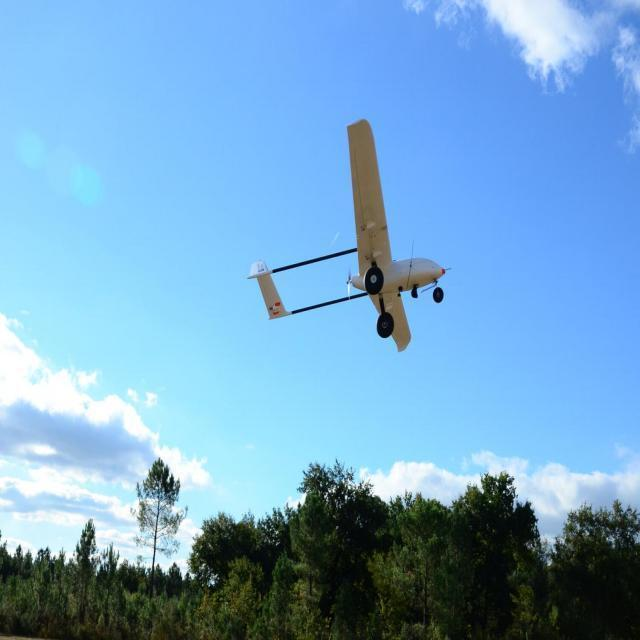UAV: (258, 146, 471, 352)
